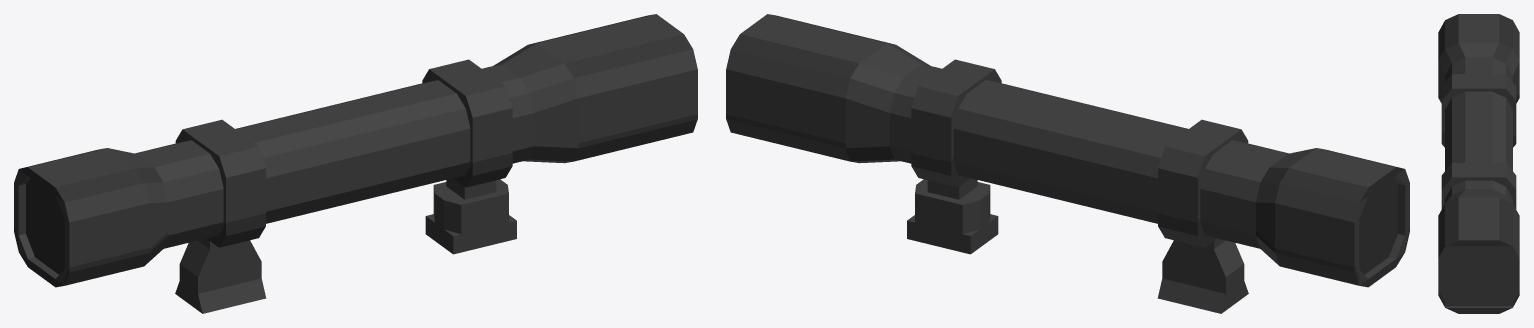
3 renders of one model, left to right at view 1: azimuth 30°, elevation 25°; view 2: azimuth 150°, elevation 25°; view 3: azimuth 270°, elevation 25°, orthographic. The views are drawn at different scales.
Parts seen in each view (by area): view 1: scope35, scope33, scope47, scope6, scope48, scope20, scope24, scope5, scope46, scopeOverlay, scope44, scope51 (+12 smaller); view 2: scope37, scope33, scope49, scope7, scope48, scope21, scope25, scope5, scope52, scopeOverlay, scope45, scope51 (+12 smaller); view 3: scope33, scope8, scope48, scope5, scope27, scope32, scope26, scope47, scope49, scope35, scope37, scope50 (+9 smaller).
Part boxes in pixels (x1,y1,x2,y2): scope35: (163,93,533,248); scope33: (135,64,529,182); scope47: (574,49,697,161); scope6: (64,183,148,285); scope48: (530,14,692,78); scope20: (466,86,512,187); scope24: (219,146,265,247); scope5: (19,148,143,202); scope46: (529,78,578,161); scopeOverlay: (26,178,64,274); scope44: (444,185,508,234); scope51: (493,43,573,92); scope37: (890,93,1260,248); scope33: (894,64,1288,182); scope49: (726,49,849,161); scope7: (1275,183,1359,285); scope48: (731,14,893,78); scope21: (911,86,957,187); scope25: (1158,146,1204,247); scope5: (1280,148,1404,202); scope52: (845,78,894,161); scopeOverlay: (1359,178,1397,274); scope45: (915,185,979,234); scope51: (850,43,930,92); scope33: (1452,57,1505,194); scope8: (1445,246,1512,306); scope48: (1445,197,1512,246); scope5: (1445,14,1512,48); scope27: (1452,74,1505,97); scope32: (1445,42,1512,63); scope26: (1452,163,1505,186); scope47: (1438,204,1444,306); scope49: (1513,204,1519,306); scope35: (1445,64,1451,202); scope37: (1506,64,1512,202); scope50: (1445,306,1512,313).
Size of the model in its own units: 7.9 by 1.97 by 1.2.
